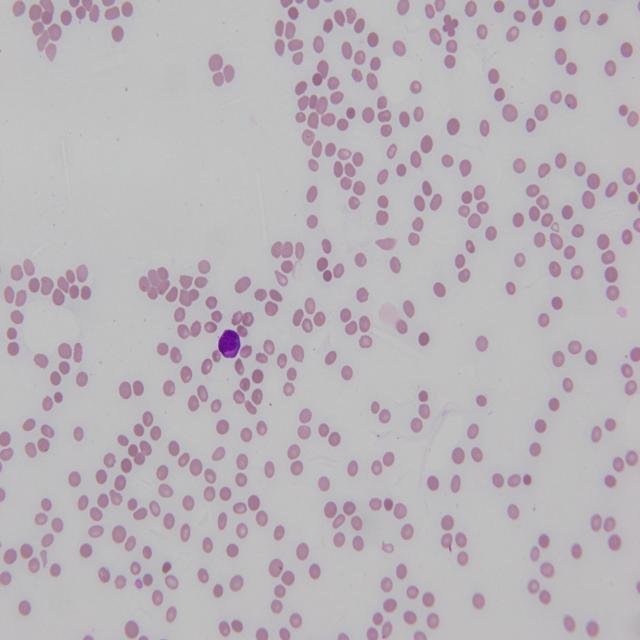cell: (219, 330, 240, 359)
